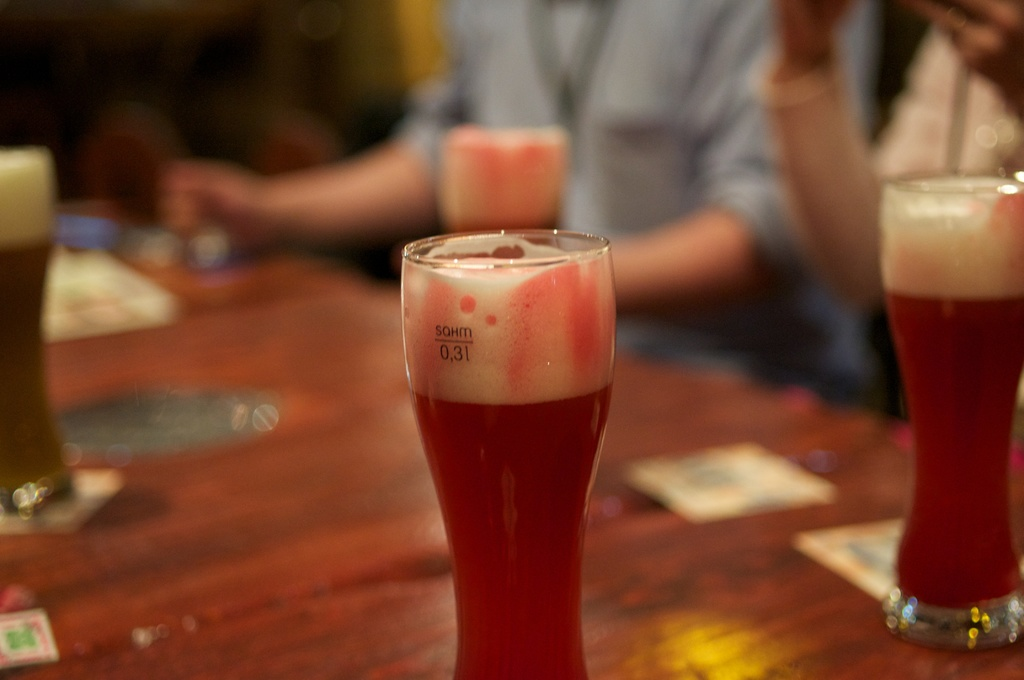Beer: (403, 226, 614, 680), (882, 171, 1024, 646), (0, 144, 75, 515), (437, 124, 567, 253)
